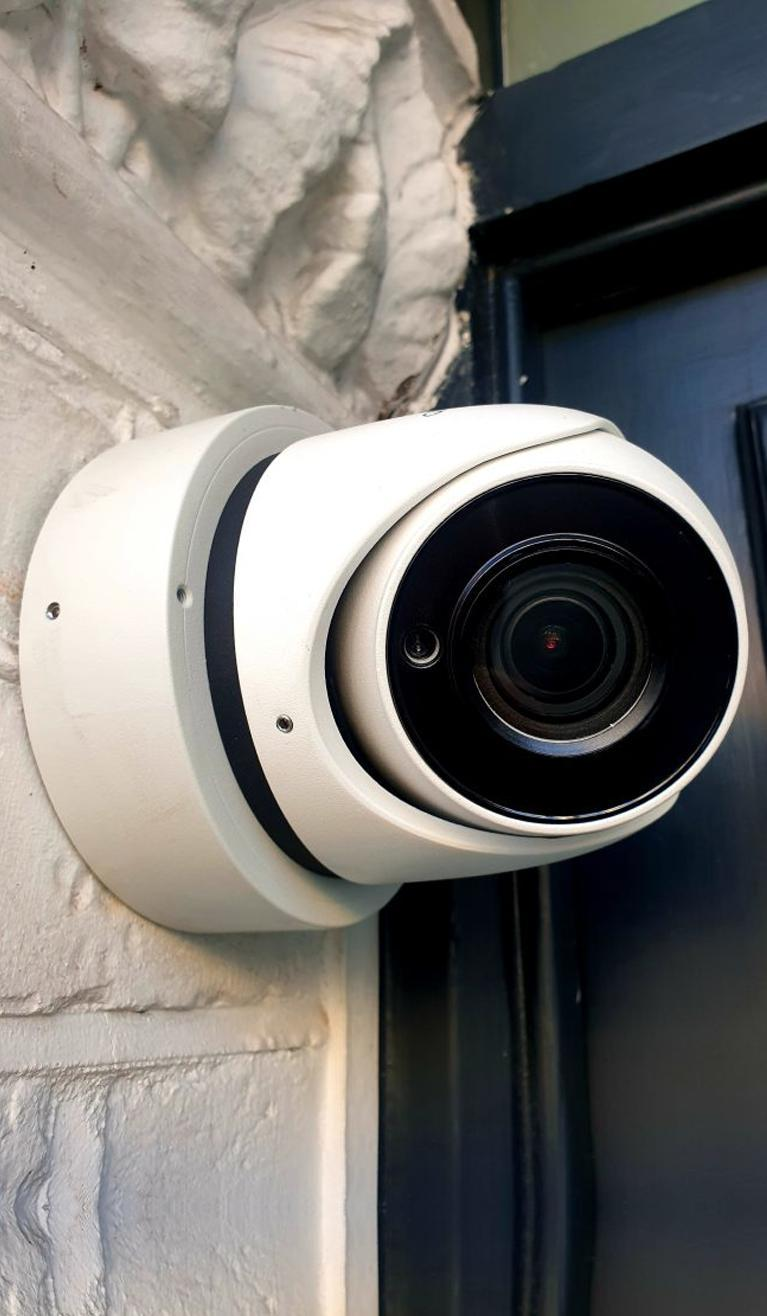CCTV: (19, 406, 748, 933)
